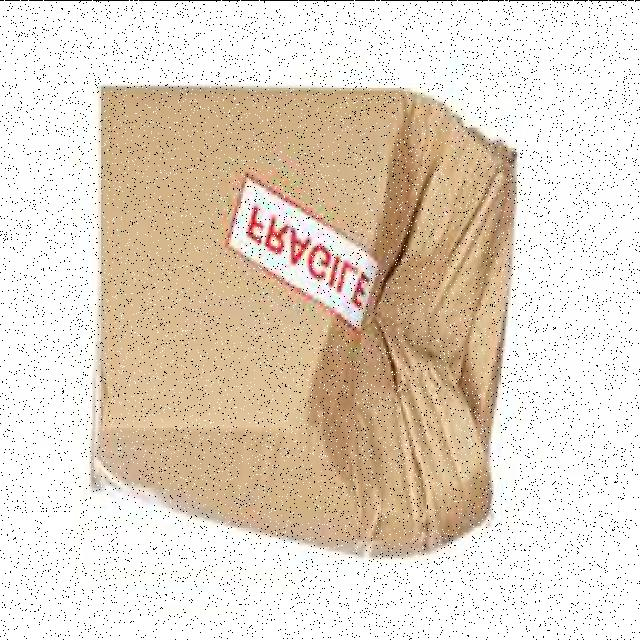defect: (83, 80, 526, 568)
